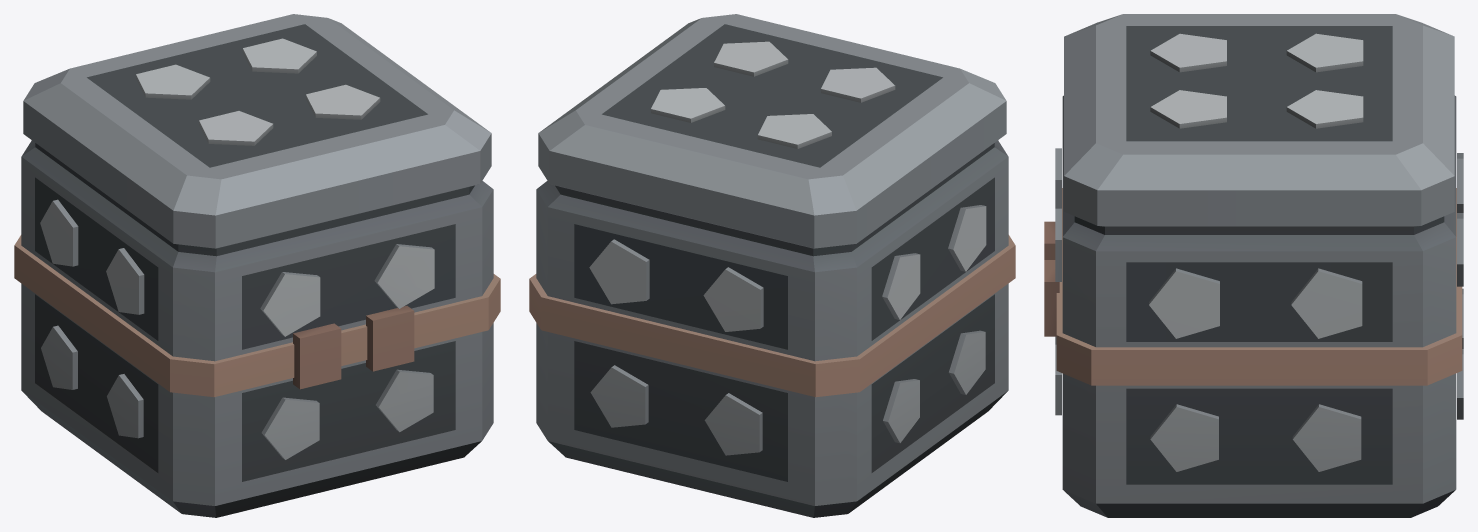
Rendered from crate.lod1.glb.
The picture shows the model from 3 angles, left to right: view 1: azimuth 30°, elevation 25°; view 2: azimuth 150°, elevation 25°; view 3: azimuth 270°, elevation 25°; orthographic projection. The views are drawn at different scales.
Bounding box in the file's own units: 1.37 × 1.32 × 1.38.
